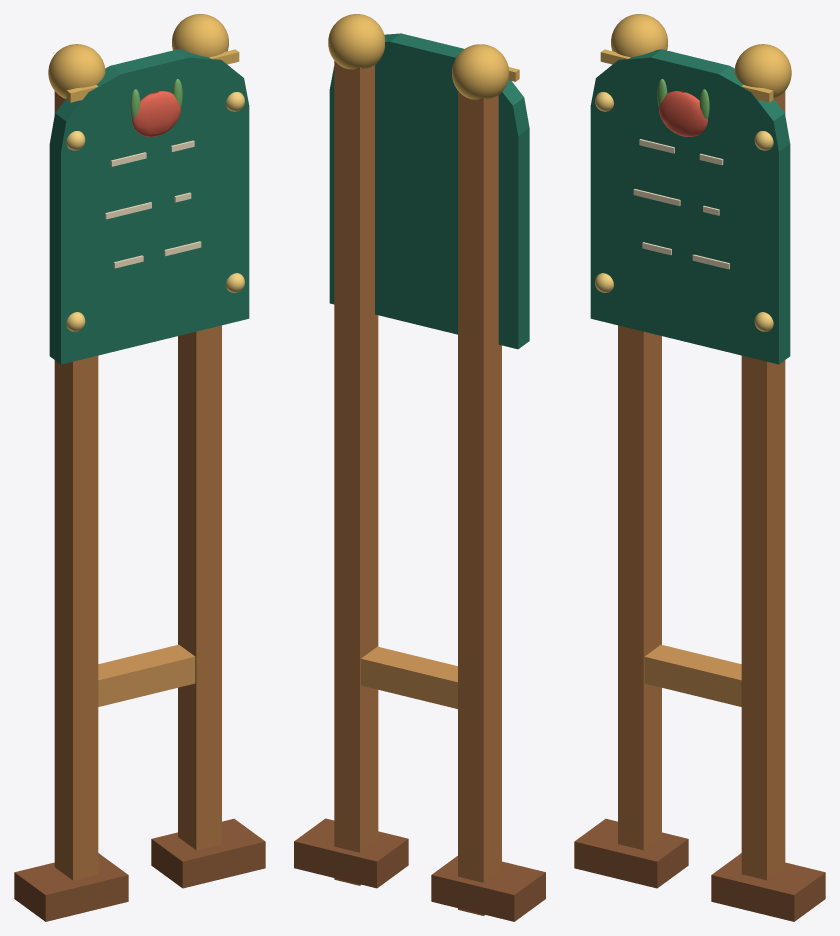
Rendered from gblb_farmhouse_sign.glb.
The picture shows the model from 3 angles, left to right: view 1: azimuth 30°, elevation 25°; view 2: azimuth 150°, elevation 25°; view 3: azimuth 330°, elevation 25°; orthographic projection.
Size of the model in its own units: 0.292 by 1.09 by 0.082.
